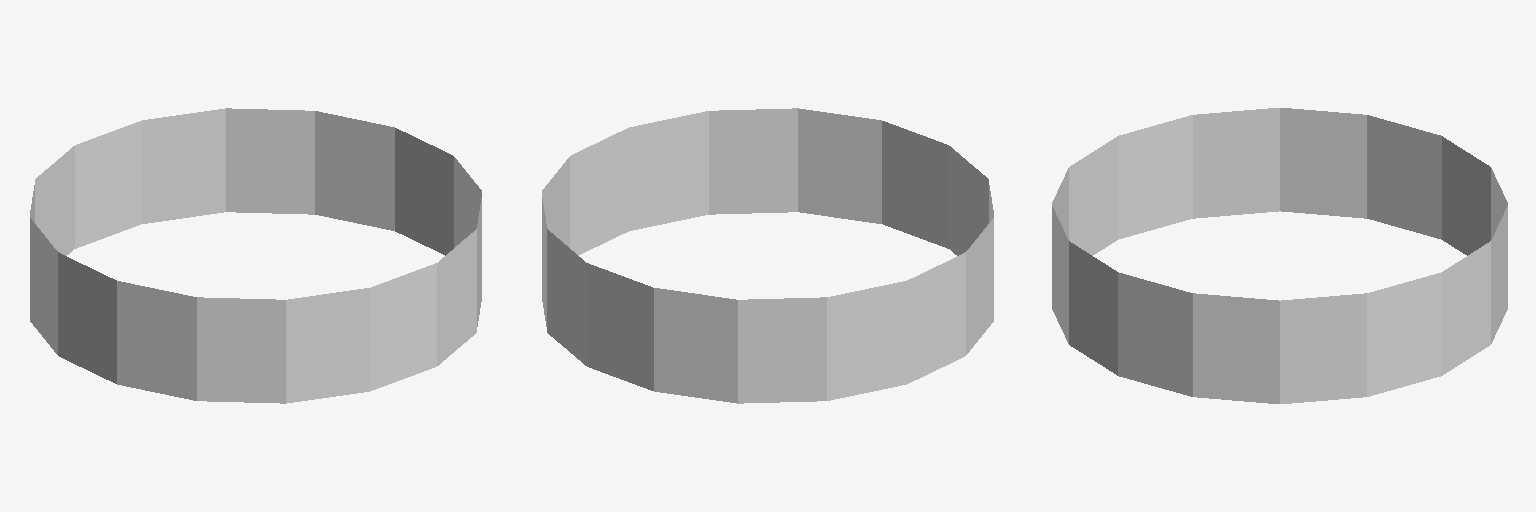
Rendered from zodiacalbeltV2BlueandWhite.obj.
3 renders of one model, left to right at view 1: azimuth 30°, elevation 25°; view 2: azimuth 150°, elevation 25°; view 3: azimuth 270°, elevation 25°, orthographic.
Visible parts, largest first — view 1: Cylinder; view 2: Cylinder; view 3: Cylinder.
Part boxes in pixels (x1,y1,x2,y2): Cylinder: (30,108,481,403); Cylinder: (542,108,993,403); Cylinder: (1052,108,1507,403).
Bounding box in the file's own units: 565 × 142 × 565.